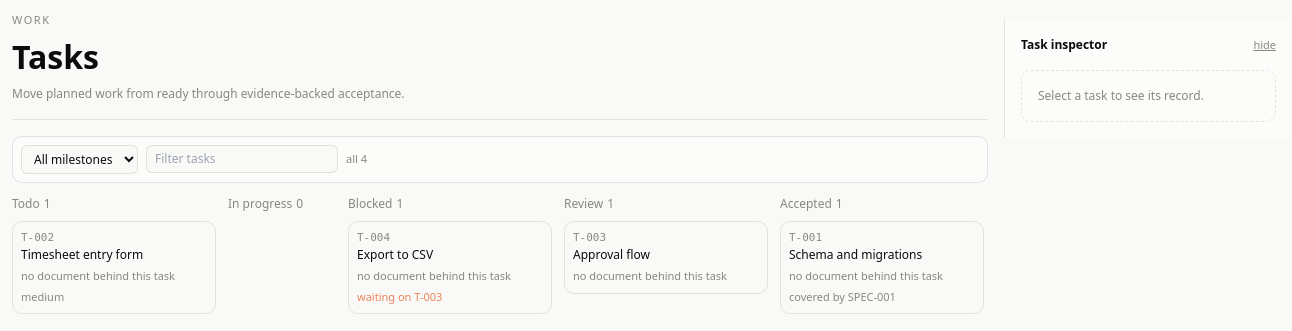
it: Board › filters by milestone without losing the total
Check: the number of buttons with test id "board-card" is 4, box top-left (12, 220), bottom-right (216, 314); top-left (348, 220), bottom-right (552, 314); top-left (564, 220), bottom-right (768, 294); top-left (780, 220), bottom-right (984, 314)
Select "M-02" in the dropdown with test id "board-milestone" at (80, 159), box top-left (21, 144), bottom-right (138, 174)
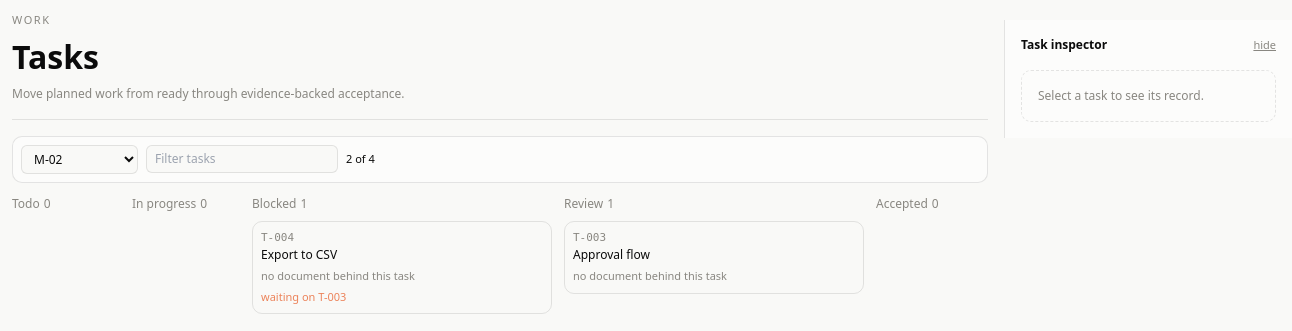
Check: the number of buttons with test id "board-card" is 2, box top-left (252, 220), bottom-right (552, 314); top-left (564, 220), bottom-right (864, 294)
